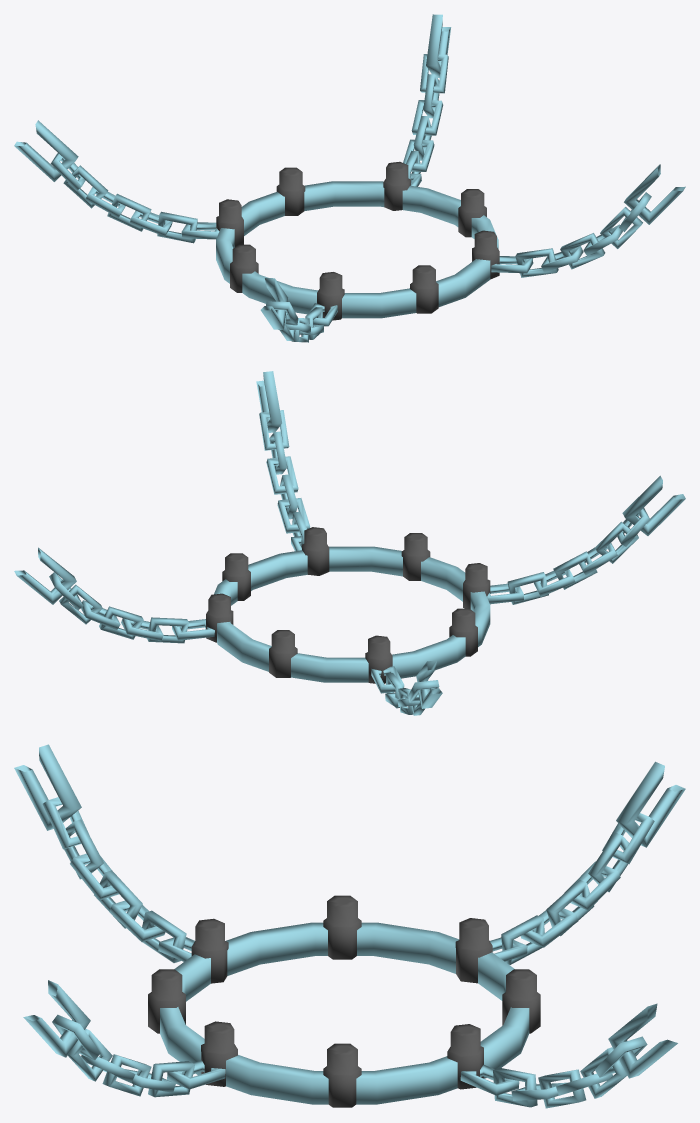
The model's file is chandelier.obj.
3 renders of one model, top to bottom at view 1: azimuth 30°, elevation 25°; view 2: azimuth 150°, elevation 25°; view 3: azimuth 270°, elevation 25°, orthographic. The views are drawn at different scales.
Parts seen in each view (by area): view 1: Chandelier, Candle007; view 2: Chandelier, Candle007; view 3: Chandelier, Candle007.
Part boxes in pixels (x1,y1,x2,y2): Chandelier: [14, 14, 685, 342]; Candle007: [216, 161, 499, 320]; Chandelier: [14, 371, 685, 715]; Candle007: [206, 527, 490, 683]; Chandelier: [14, 744, 685, 1108]; Candle007: [148, 895, 540, 1107].
Size of the model in its own units: 177 by 50.48 by 179.
